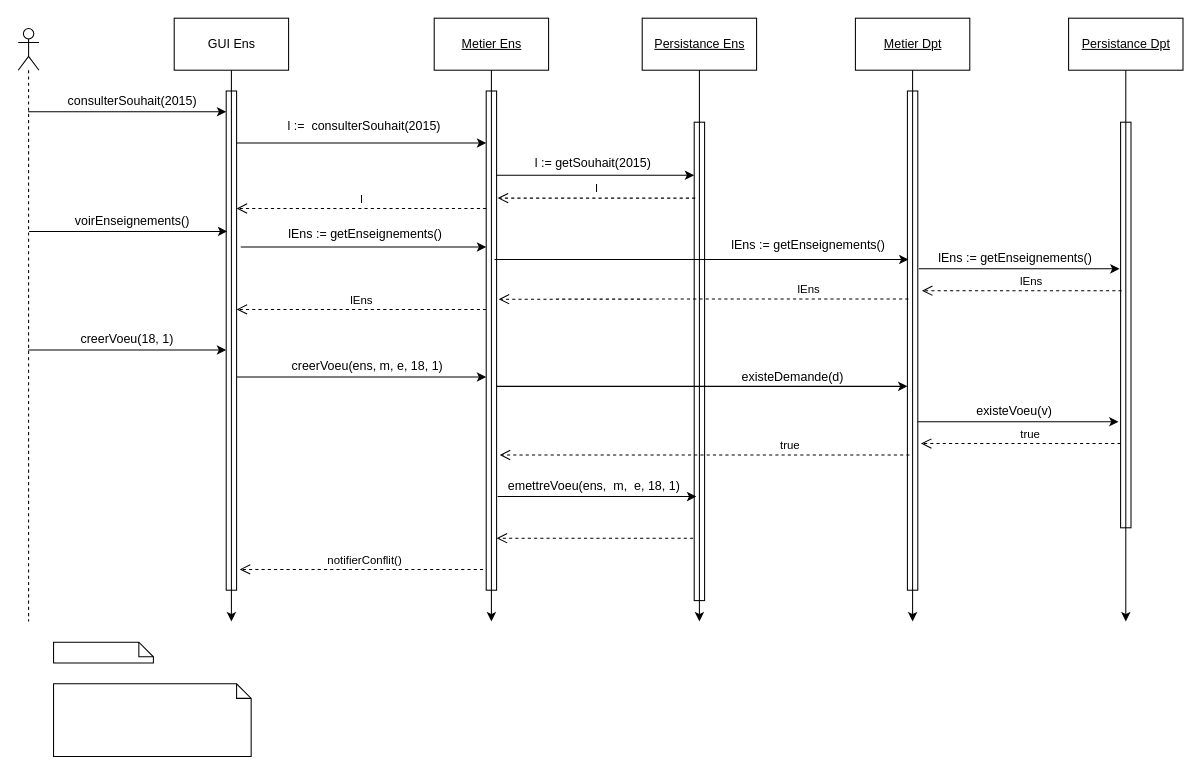
Some shapes in this 1201 by 775 pixel diagram are drawn without their labels. The shapes that lost their labels are listed below. From the top down, each one's centre as x and y in pixels, then its label:
At point 103,652: "Extension 3a".
At point 152,720: "ens :Enseignant, m :Module, e :Enseignement d : Demande".
